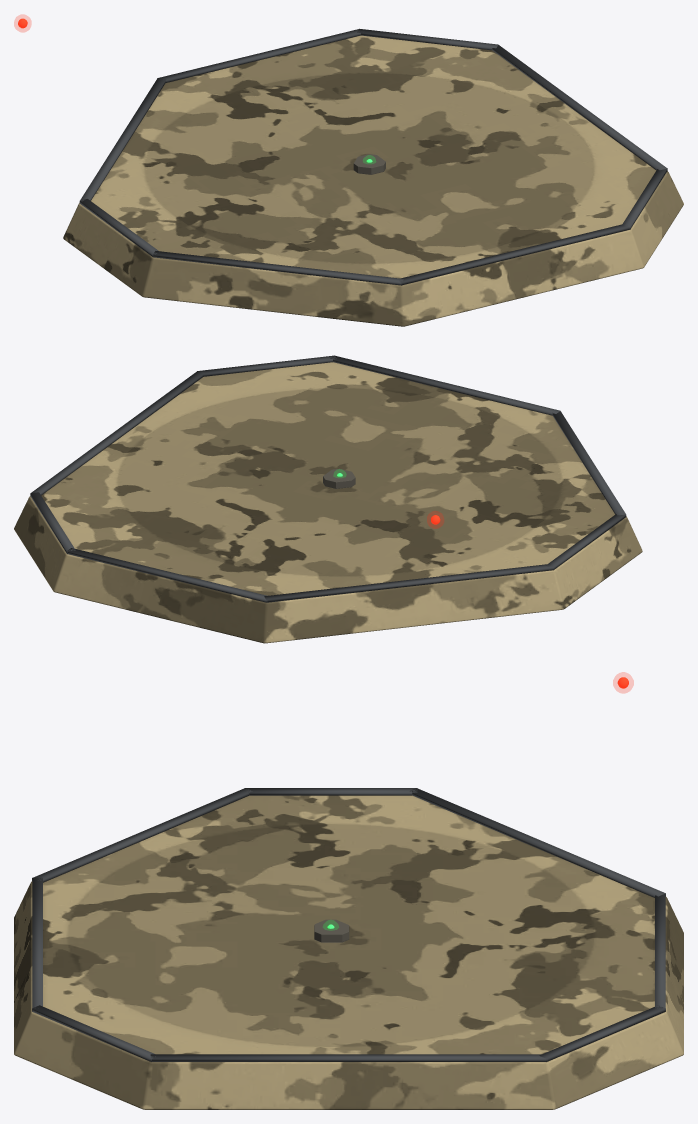
The model's file is GAHPAD.glb.
3 renders of one model, top to bottom at view 1: azimuth 30°, elevation 25°; view 2: azimuth 150°, elevation 25°; view 3: azimuth 270°, elevation 25°, orthographic. The views are drawn at different scales.
Visible parts, largest first — view 1: Deck, DeckEdge, Footing; view 2: Deck, DeckEdge, Footing; view 3: Deck, DeckEdge, Footing.
Boxes of the visible parts, left/top/right/bottom form: Deck: left=63, top=35, right=683, bottom=326; DeckEdge: left=79, top=28, right=667, bottom=285; Footing: left=353, top=154, right=385, bottom=174; Deck: left=14, top=362, right=642, bottom=643; DeckEdge: left=30, top=355, right=626, bottom=602; Footing: left=323, top=468, right=355, bottom=488; Deck: left=14, top=795, right=683, bottom=1109; DeckEdge: left=32, top=788, right=665, bottom=1061; Footing: left=314, top=919, right=349, bottom=942.
Size of the model in its own units: 1.88 by 0.54 by 1.86.
18 materials, 1 textured.
